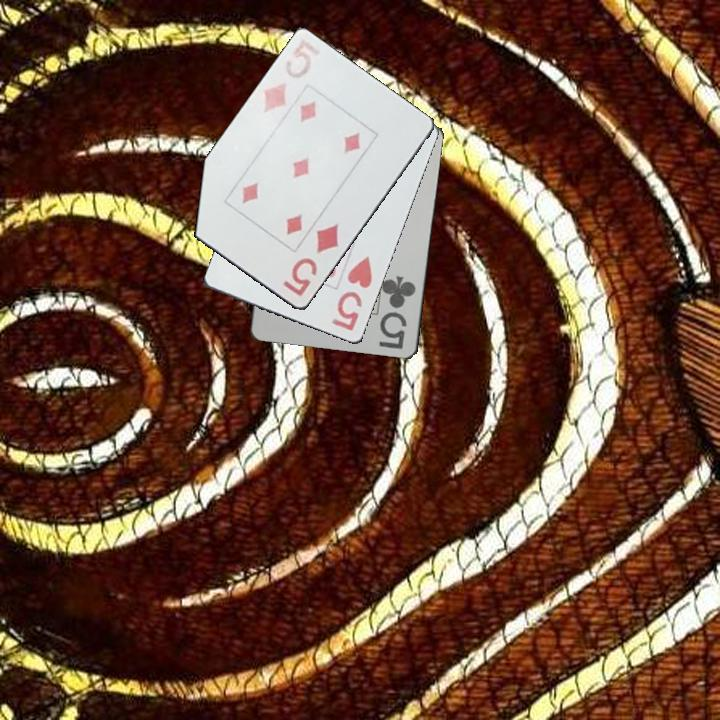5c: (376, 273, 419, 352)
5d: (280, 220, 341, 300), (260, 46, 314, 116)
5h: (328, 252, 375, 334)
